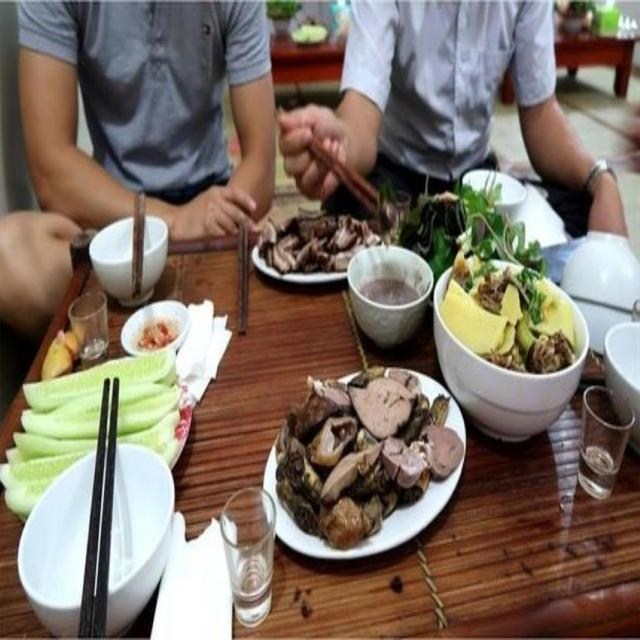dua leo: (0, 342, 206, 512)
gan ga: (266, 370, 471, 547)
heo quay: (254, 212, 392, 281)
